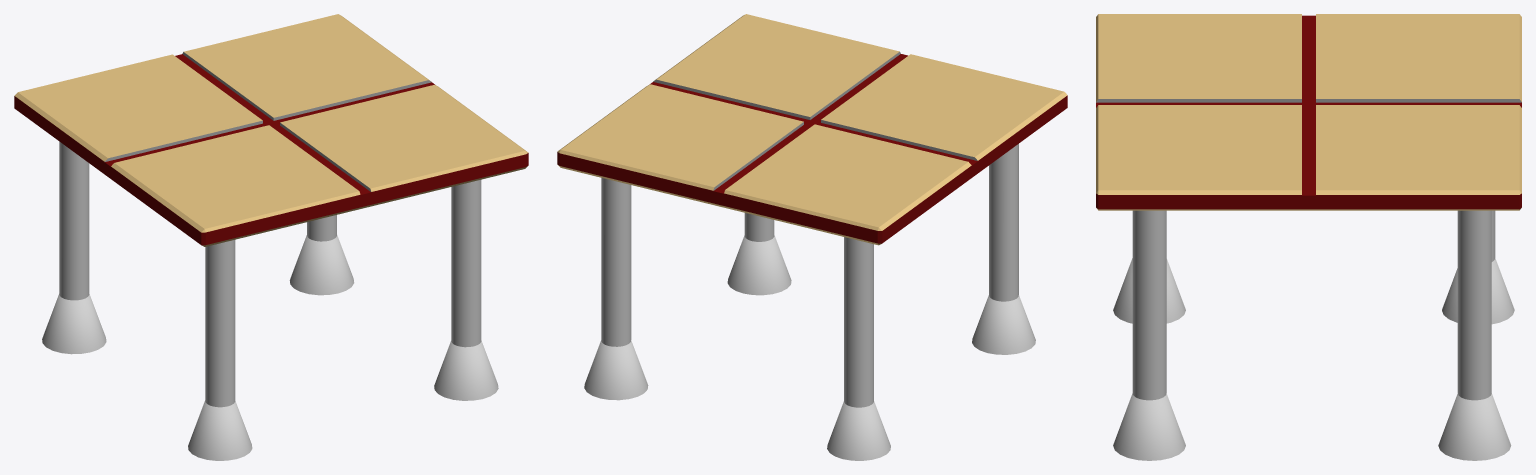
File: Table.fbx
3 renders of one model, left to right at view 1: azimuth 30°, elevation 25°; view 2: azimuth 150°, elevation 25°; view 3: azimuth 270°, elevation 25°, orthographic. The views are drawn at different scales.
Parts seen in each view (by area): view 1: pCube5, pCylinder6, pCylinder7, pCylinder3, pCone6, pCone7, pCone5, pCone2, pCylinder8; view 2: pCube5, pCylinder8, pCylinder3, pCylinder6, pCone6, pCone5, pCone7, pCone2, pCylinder7; view 3: pCube5, pCylinder7, pCylinder8, pCone7, pCone6, pCone2, pCone5.
Part boxes in pixels (x1=…): pCube5: x1=14, y1=14, x2=528, y2=246; pCylinder6: x1=205, y1=240, x2=235, y2=407; pCylinder7: x1=451, y1=180, x2=481, y2=347; pCylinder3: x1=59, y1=141, x2=89, y2=300; pCone6: x1=434, y1=340, x2=498, y2=400; pCone7: x1=289, y1=235, x2=354, y2=295; pCone5: x1=188, y1=400, x2=252, y2=460; pCone2: x1=42, y1=294, x2=106, y2=354; pCylinder8: x1=307, y1=215, x2=336, y2=241; pCube5: x1=557, y1=14, x2=1067, y2=245; pCylinder8: x1=601, y1=178, x2=631, y2=346; pCylinder3: x1=844, y1=237, x2=873, y2=407; pCylinder6: x1=989, y1=144, x2=1018, y2=301; pCone6: x1=727, y1=235, x2=791, y2=295; pCone5: x1=972, y1=295, x2=1035, y2=354; pCone7: x1=584, y1=340, x2=648, y2=400; pCone2: x1=827, y1=401, x2=890, y2=460; pCylinder7: x1=744, y1=213, x2=774, y2=241; pCube5: x1=1096, y1=14, x2=1521, y2=210; pCylinder7: x1=1132, y1=210, x2=1166, y2=400; pCylinder8: x1=1457, y1=210, x2=1491, y2=400; pCone7: x1=1438, y1=393, x2=1511, y2=460; pCone6: x1=1113, y1=393, x2=1185, y2=460; pCone2: x1=1442, y1=258, x2=1514, y2=324; pCone5: x1=1113, y1=258, x2=1185, y2=323.
Bounding box in the file's own units: 2.5 × 1.78 × 2.5.
